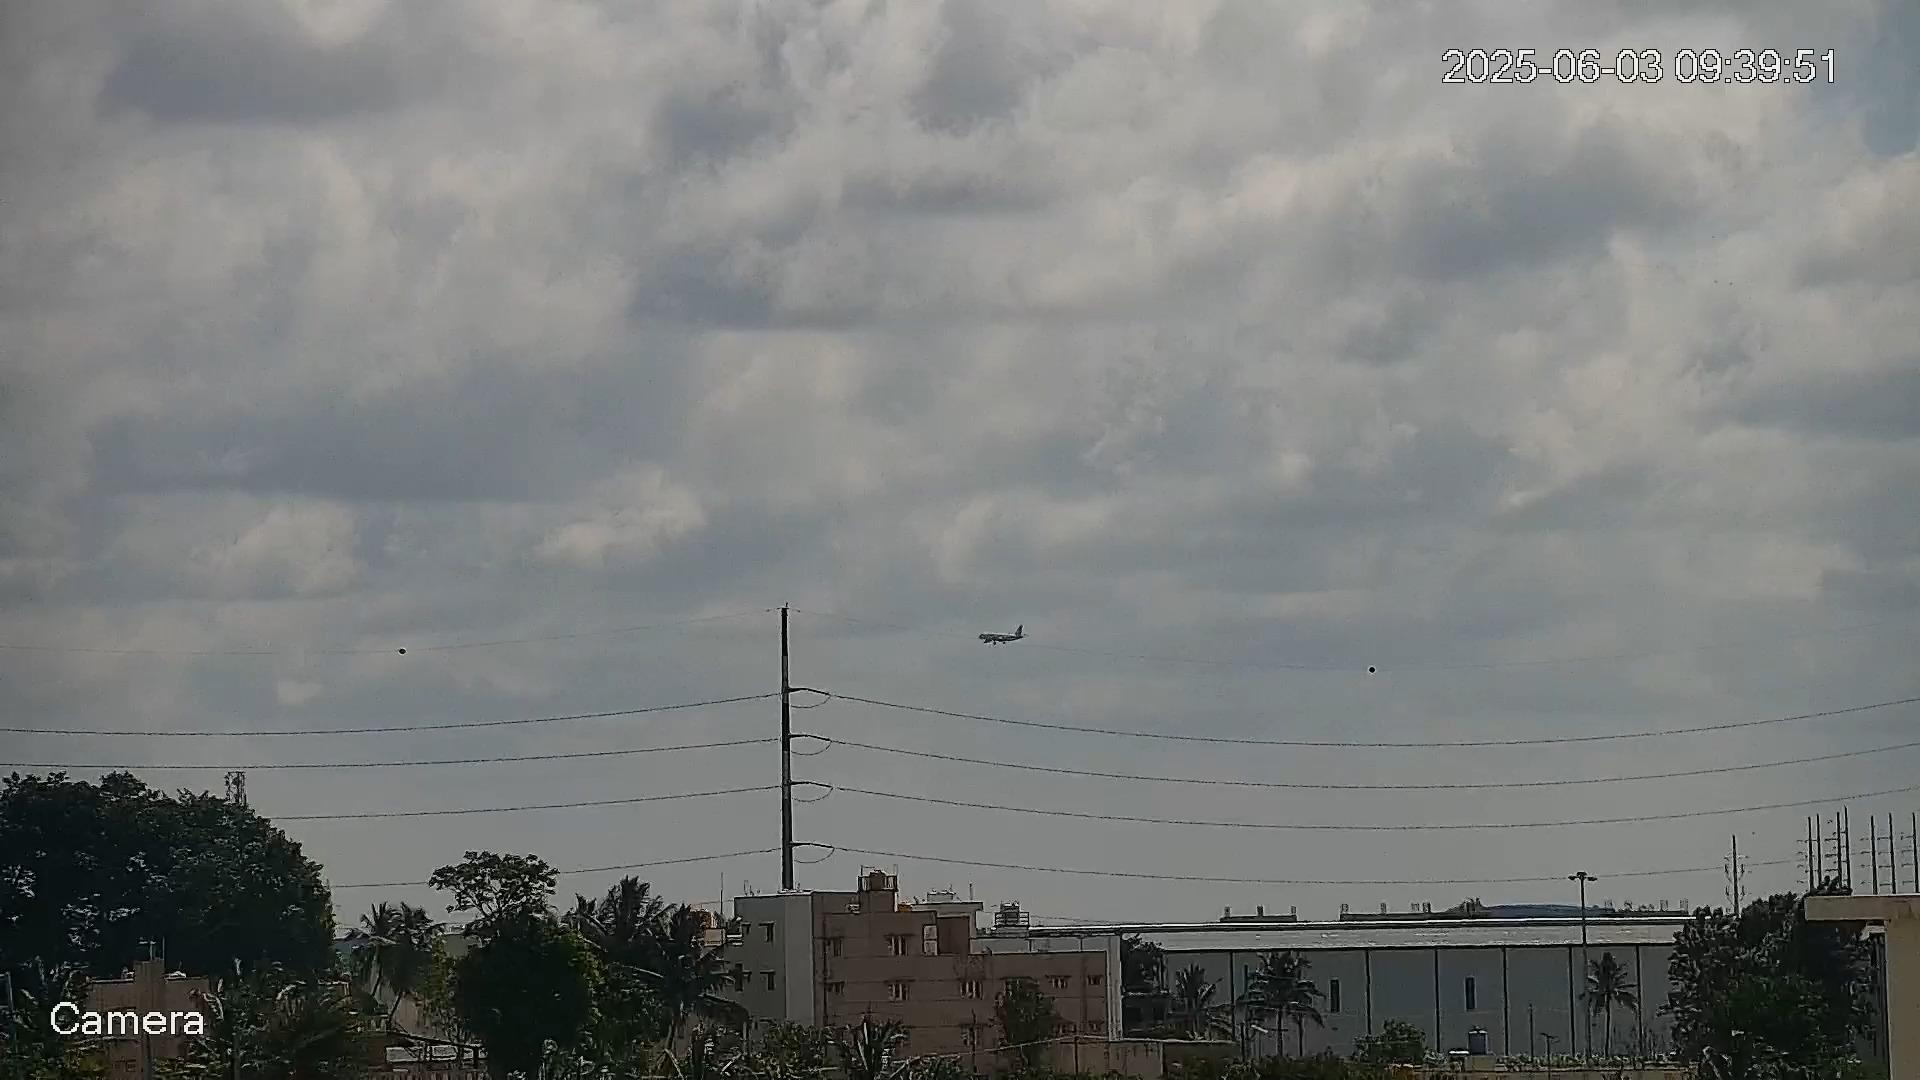Aircraft: (976, 621, 1031, 649)
